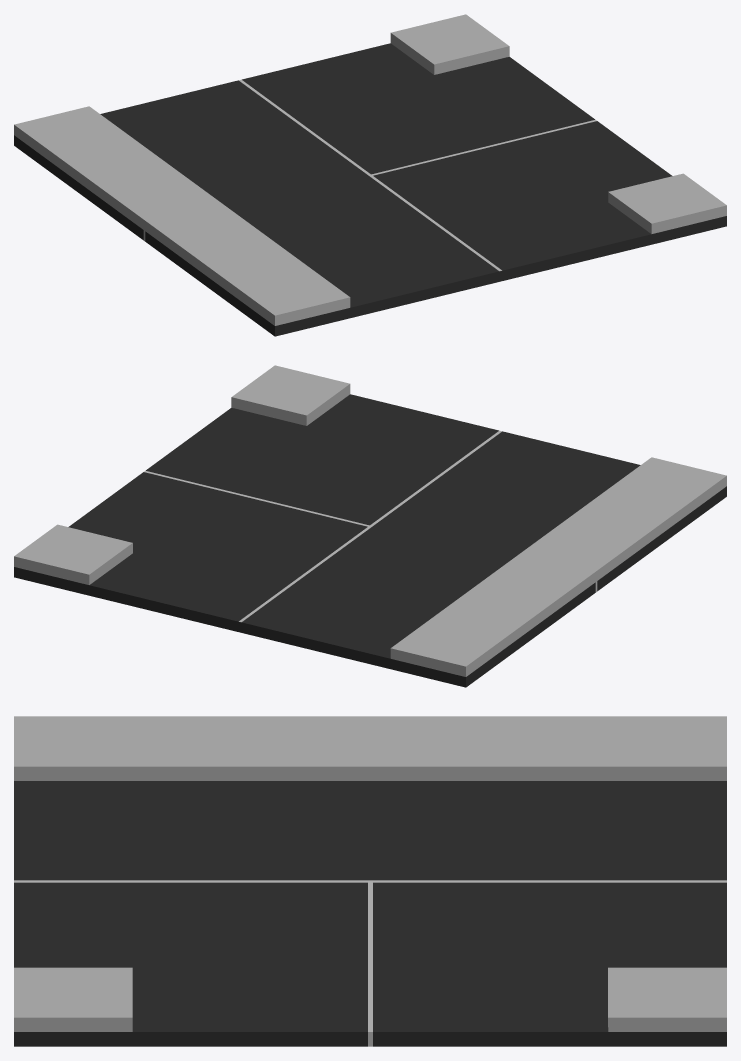
File: T-Intersection.glb
3 views of the same model, one above another, from view 1: azimuth 30°, elevation 25°; view 2: azimuth 150°, elevation 25°; view 3: azimuth 270°, elevation 25° (orthographic). The views are drawn at different scales.
Parts seen in each view (by area): view 1: T-Intersection; view 2: T-Intersection; view 3: T-Intersection.
Boxes of the visible parts, x1,y1,x2,y2 form: T-Intersection: [14, 14, 726, 336]; T-Intersection: [14, 365, 726, 687]; T-Intersection: [14, 716, 726, 1046].
Size of the model in its own units: 9 by 0.4 by 9.
Materials: 1 (1 with a texture image).
